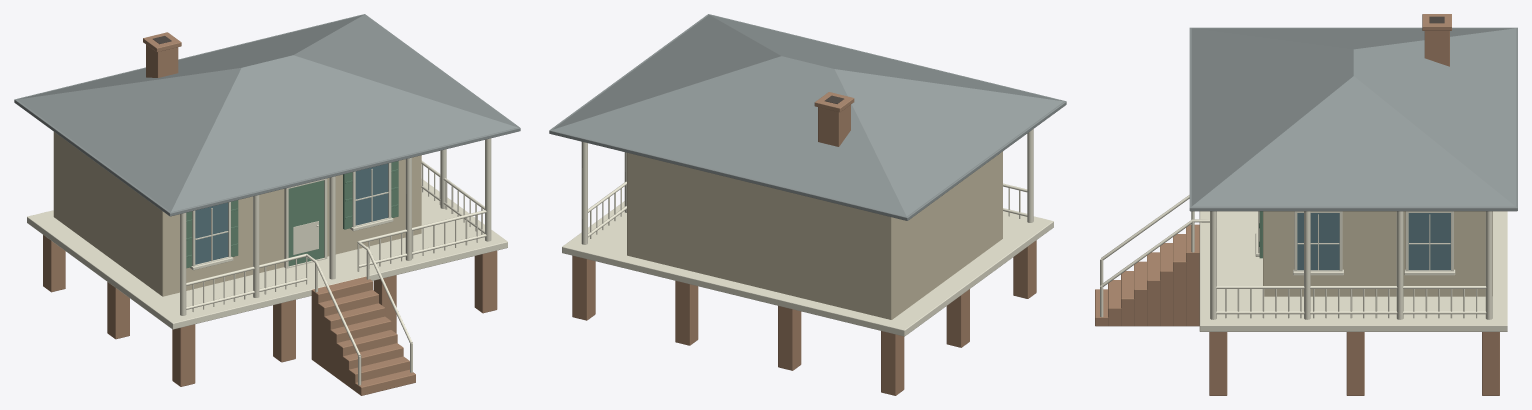
Rendered from medium_creole_raised.glb.
The picture shows the model from 3 angles, left to right: view 1: azimuth 30°, elevation 25°; view 2: azimuth 150°, elevation 25°; view 3: azimuth 270°, elevation 25°; orthographic projection. The views are drawn at different scales.
Visible parts, largest first — view 1: Creole broad gallery solid hip roof, Creole closed raised dwelling, Creole raised solid gallery floor, Creole broad gallery closed eave fascia, Creole tall gallery door inset pane, Creole shuttered front sash inset pane.001, Creole shuttered front sash inset pane, Creole grounded masonry pier, Creole grounded masonry pier.009, Creole grounded masonry pier.003, Creole exterior stair step 8, Creole exterior stair step 6 (+18 smaller); view 2: Creole broad gallery solid hip roof, Creole closed raised dwelling, Creole raised solid gallery floor, Creole broad gallery closed eave fascia, Creole grounded masonry pier.011, Creole grounded masonry pier.005, Creole grounded masonry pier.008, Creole grounded masonry pier.002, Creole grounded masonry pier, Creole grounded masonry pier.001, Creole rear chimney chimney shaft, Creole right gallery post.002 (+2 smaller); view 3: Creole broad gallery solid hip roof, Creole raised solid gallery floor, Creole closed raised dwelling, Creole broad gallery closed eave fascia, Creole gallery-side sash inset pane.001, Creole gallery-side sash inset pane, Creole exterior stair step 8, Creole exterior stair step 7, Creole grounded masonry pier.009, Creole grounded masonry pier.010, Creole grounded masonry pier.011, Creole exterior stair step 6 (+15 smaller).
Part boxes in pixels (x1,y1,x2,y2): Creole broad gallery solid hip roof: [17, 15, 517, 211]; Creole closed raised dwelling: [53, 132, 421, 296]; Creole raised solid gallery floor: [27, 179, 507, 329]; Creole broad gallery closed eave fascia: [14, 14, 520, 216]; Creole tall gallery door inset pane: [288, 180, 324, 266]; Creole shuttered front sash inset pane.001: [355, 163, 388, 225]; Creole shuttered front sash inset pane: [195, 202, 228, 264]; Creole grounded masonry pier: [172, 324, 195, 386]; Creole grounded masonry pier.009: [474, 250, 497, 313]; Creole grounded masonry pier.003: [273, 299, 295, 362]; Creole exterior stair step 8: [311, 276, 372, 363]; Creole exterior stair step 6: [324, 303, 385, 372]; Creole broad gallery solid hip roof: [552, 15, 1063, 216]; Creole closed raised dwelling: [627, 151, 1002, 319]; Creole raised solid gallery floor: [562, 201, 1053, 336]; Creole broad gallery closed eave fascia: [549, 14, 1066, 220]; Creole grounded masonry pier.011: [572, 255, 595, 320]; Creole grounded masonry pier.005: [778, 306, 801, 370]; Creole grounded masonry pier.008: [675, 281, 698, 345]; Creole grounded masonry pier.002: [881, 331, 904, 395]; Creole grounded masonry pier: [1013, 240, 1036, 298]; Creole grounded masonry pier.001: [946, 289, 969, 347]; Creole rear chimney chimney shaft: [818, 105, 850, 146]; Creole right gallery post.002: [581, 142, 587, 244]; Creole broad gallery solid hip roof: [1191, 28, 1515, 206]; Creole raised solid gallery floor: [1199, 211, 1507, 331]; Creole closed raised dwelling: [1263, 211, 1492, 296]; Creole broad gallery closed eave fascia: [1189, 27, 1517, 211]; Creole gallery-side sash inset pane.001: [1408, 213, 1450, 270]; Creole gallery-side sash inset pane: [1297, 213, 1339, 270]; Creole exterior stair step 8: [1186, 224, 1199, 326]; Creole exterior stair step 7: [1173, 234, 1186, 326]; Creole grounded masonry pier.009: [1209, 332, 1227, 395]; Creole grounded masonry pier.010: [1346, 332, 1364, 395]; Creole grounded masonry pier.011: [1482, 332, 1499, 395]; Creole exterior stair step 6: [1160, 243, 1173, 326].
Bounding box in the file's own units: 11.5 × 7.72 × 11.4.
